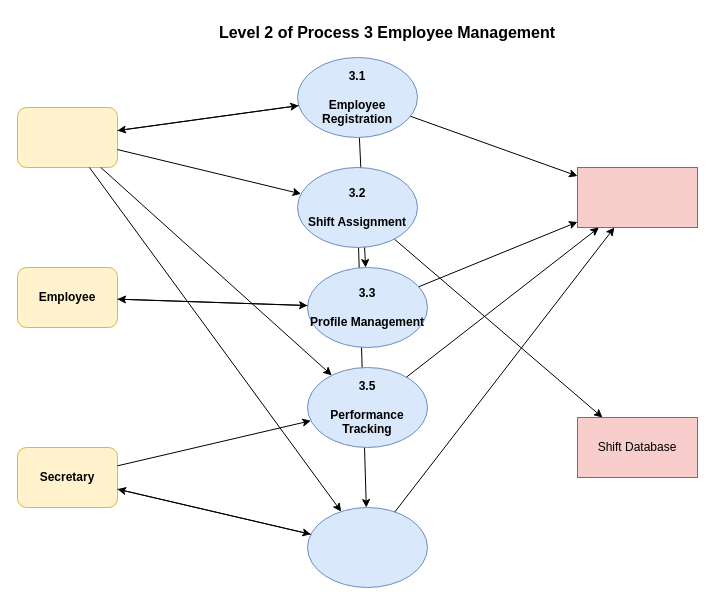
The diagram is 715 pixels wide and 605 high, and some of its shapes have lost their labels. Each missing label, with the centre of its shape:
"3.4 Salary Management" belongs at (x=367, y=547).
"Employee Database" belongs at (x=637, y=197).
"Manager" belongs at (x=67, y=137).
